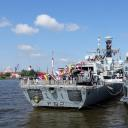Fragata: (21, 35, 127, 110)
